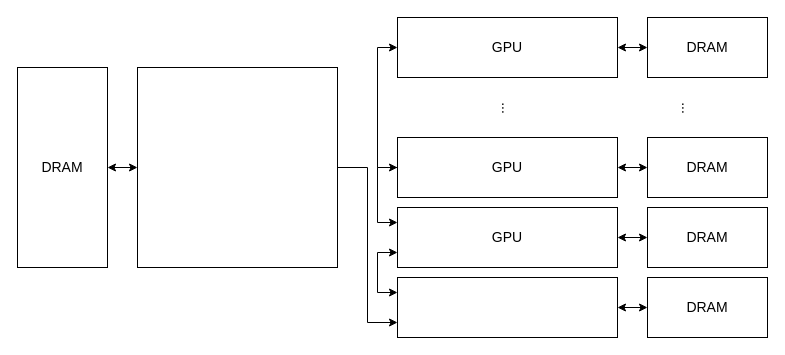
Some shapes in this 785 by 355 pixel diagram are drawn without their labels. Each missing label, with the centre of its shape:
Dynamic language accelerator: point (507, 307)
Host processor: point (237, 167)
